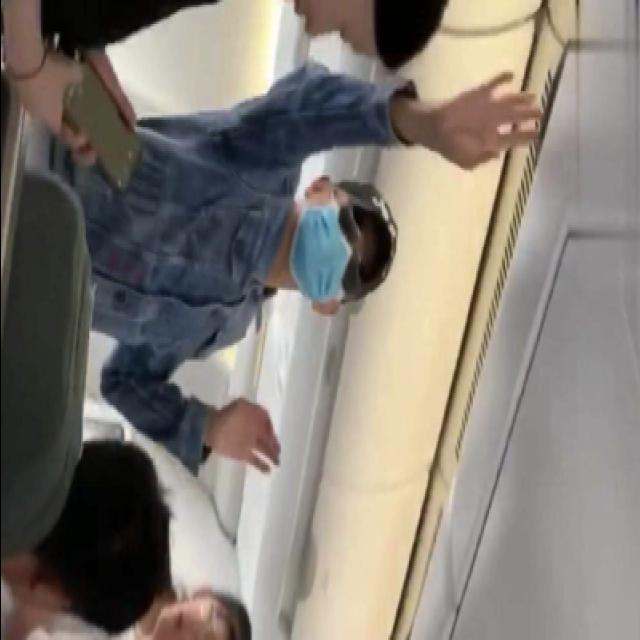with_mask: (288, 192, 373, 302)
without_mask: (277, 0, 371, 55)
